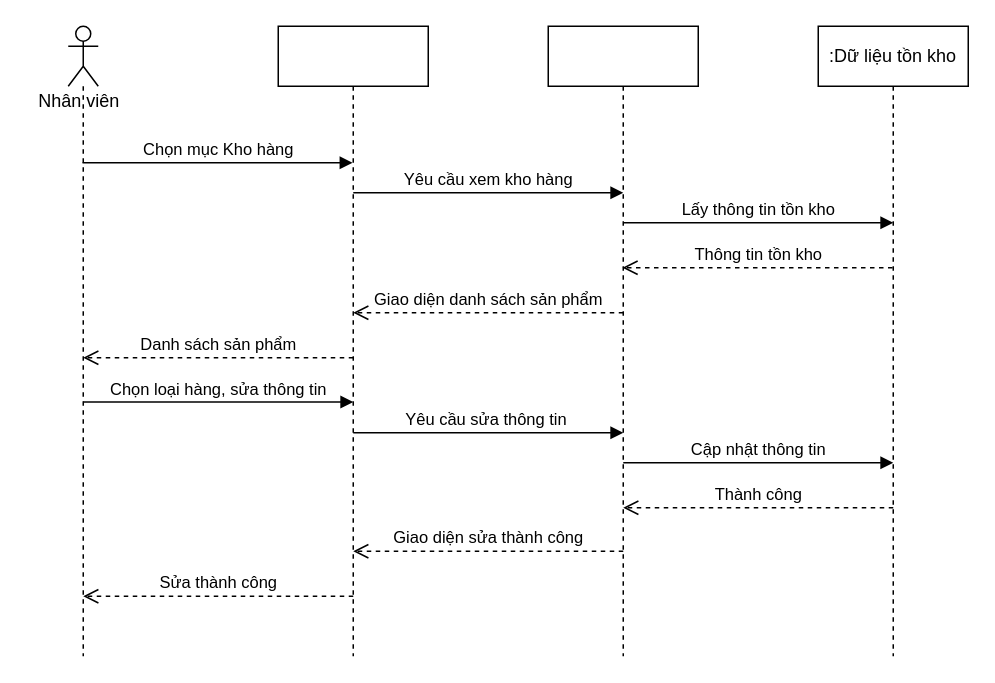
Some shapes in this 995 by 683 pixel diagram are drawn without their labels. The box of each missing label's shape, as (x1, y1, x2, y2) in pixels:
:Giao diện web: (277, 25, 428, 656)
:Máy chủ: (547, 25, 698, 656)
